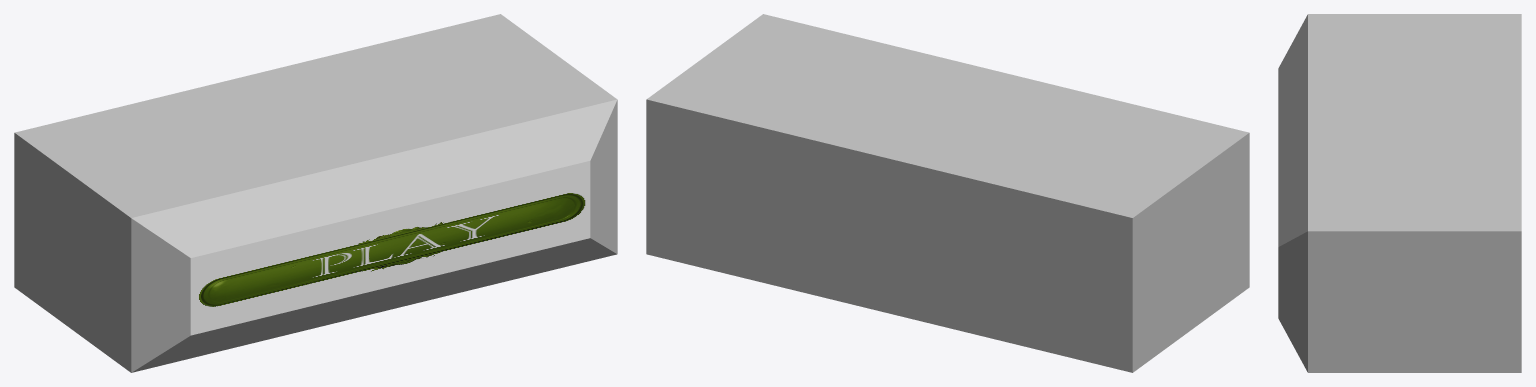
Rendered from playbutton.obj.
3 renders of one model, left to right at view 1: azimuth 30°, elevation 25°; view 2: azimuth 150°, elevation 25°; view 3: azimuth 270°, elevation 25°, orthographic. The views are drawn at different scales.
Parts seen in each view (by area): view 1: ExitButton3:pCube2; view 2: ExitButton3:pCube2; view 3: ExitButton3:pCube2.
Part boxes in pixels (x1,y1,x2,y2): ExitButton3:pCube2: [14, 14, 617, 372]; ExitButton3:pCube2: [646, 14, 1249, 372]; ExitButton3:pCube2: [1278, 14, 1521, 372].
Bounding box in the file's own units: 1.46 × 0.443 × 0.69.
